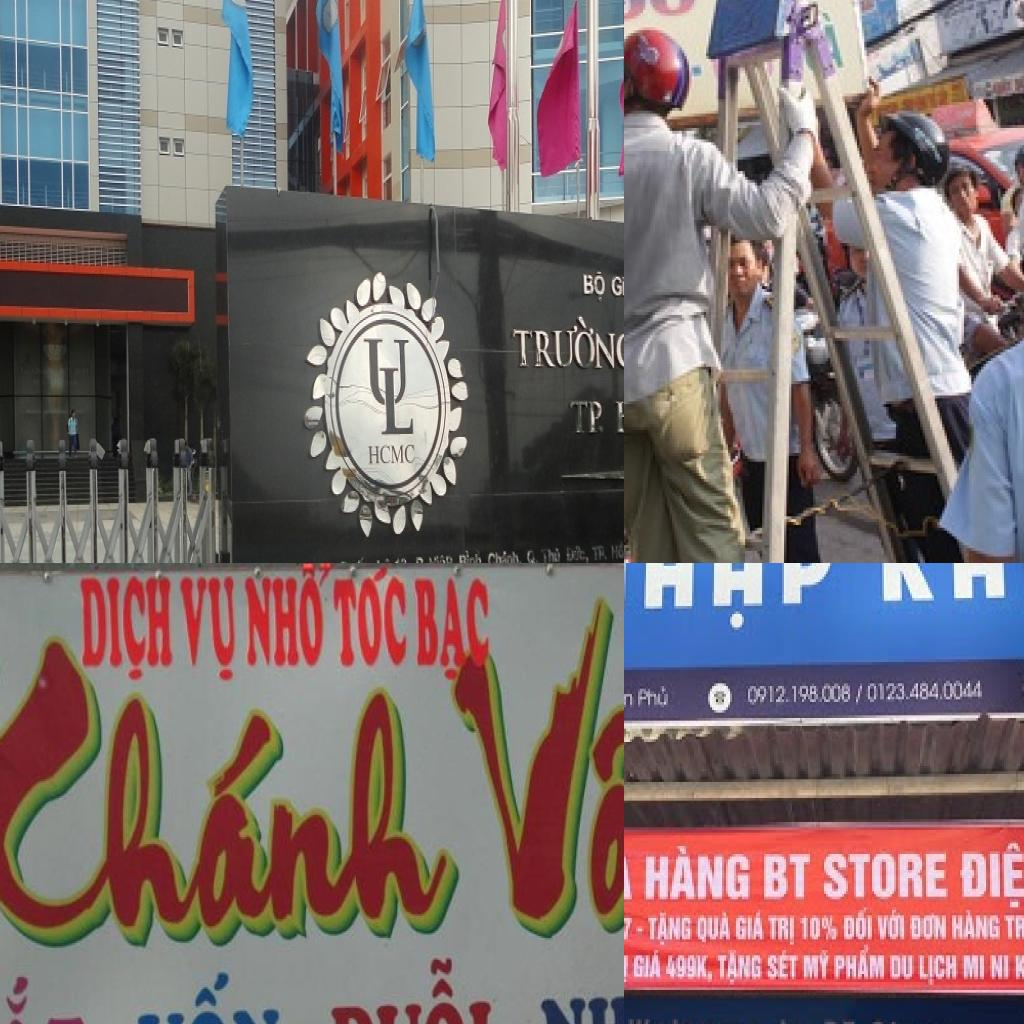text: (0, 613, 473, 1004), (427, 575, 624, 946), (624, 563, 842, 635), (326, 951, 530, 1024), (133, 961, 318, 1024), (78, 573, 177, 687), (242, 563, 336, 671), (412, 573, 493, 685), (330, 563, 410, 673), (820, 846, 954, 907), (636, 838, 754, 905), (0, 968, 129, 1024), (176, 573, 240, 685), (510, 312, 624, 373), (362, 337, 418, 438), (956, 832, 1024, 910), (864, 675, 988, 710), (758, 849, 816, 907), (746, 683, 856, 710), (624, 0, 701, 33), (832, 945, 888, 987), (714, 947, 766, 990), (948, 907, 1004, 945), (664, 950, 718, 987), (644, 910, 694, 947), (916, 953, 960, 990), (568, 397, 607, 437), (626, 1013, 766, 1024), (696, 908, 734, 948), (908, 910, 950, 945), (840, 904, 876, 944), (766, 947, 802, 985), (734, 908, 768, 948), (800, 912, 842, 944), (874, 907, 908, 945), (632, 947, 666, 985), (634, 684, 674, 716), (368, 443, 418, 468), (766, 913, 798, 950), (802, 947, 832, 985), (581, 269, 608, 305), (888, 952, 918, 984), (1002, 907, 1024, 944), (988, 952, 1012, 984), (868, 1016, 958, 1024), (962, 953, 986, 982), (613, 379, 624, 435), (487, 547, 525, 563), (564, 543, 592, 563), (611, 269, 624, 301), (539, 545, 562, 563), (458, 547, 483, 563), (774, 1013, 810, 1024), (590, 543, 609, 563), (624, 685, 636, 715), (609, 540, 624, 563), (624, 950, 632, 990), (820, 1016, 860, 1024), (427, 552, 455, 563), (337, 555, 373, 563), (524, 547, 540, 563), (375, 555, 392, 563), (393, 555, 409, 563), (414, 554, 425, 563)
